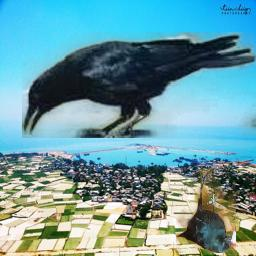Crow: (22, 32, 256, 138), (176, 169, 236, 254)
